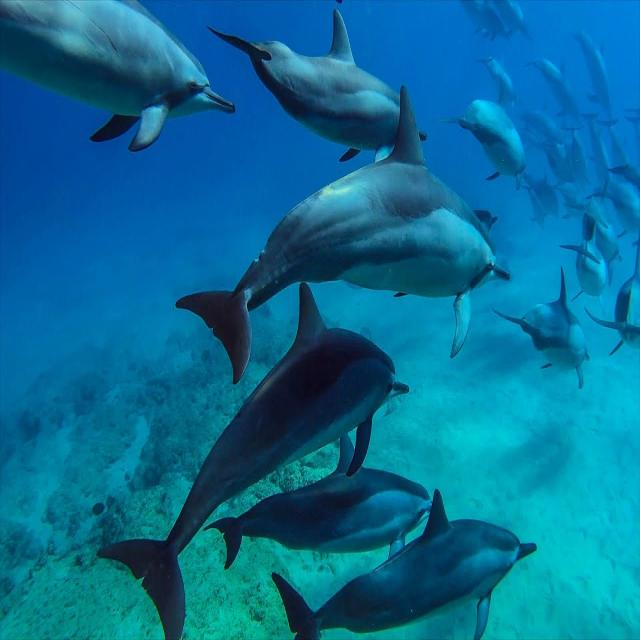dolphin: (135, 142, 493, 348), (270, 487, 550, 640)
